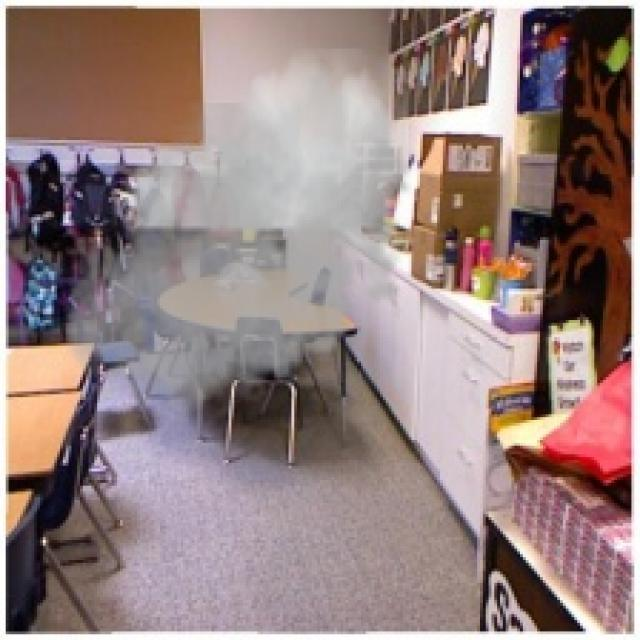Smoke: (57, 49, 423, 428)
